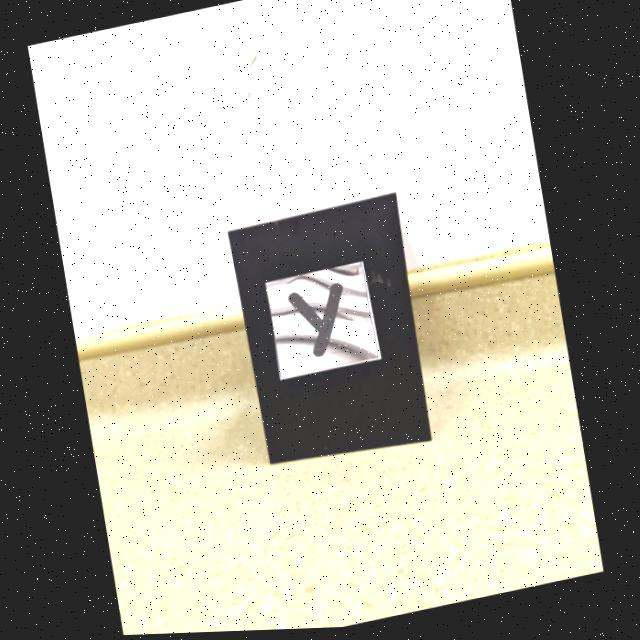Y: (289, 285, 343, 358)
